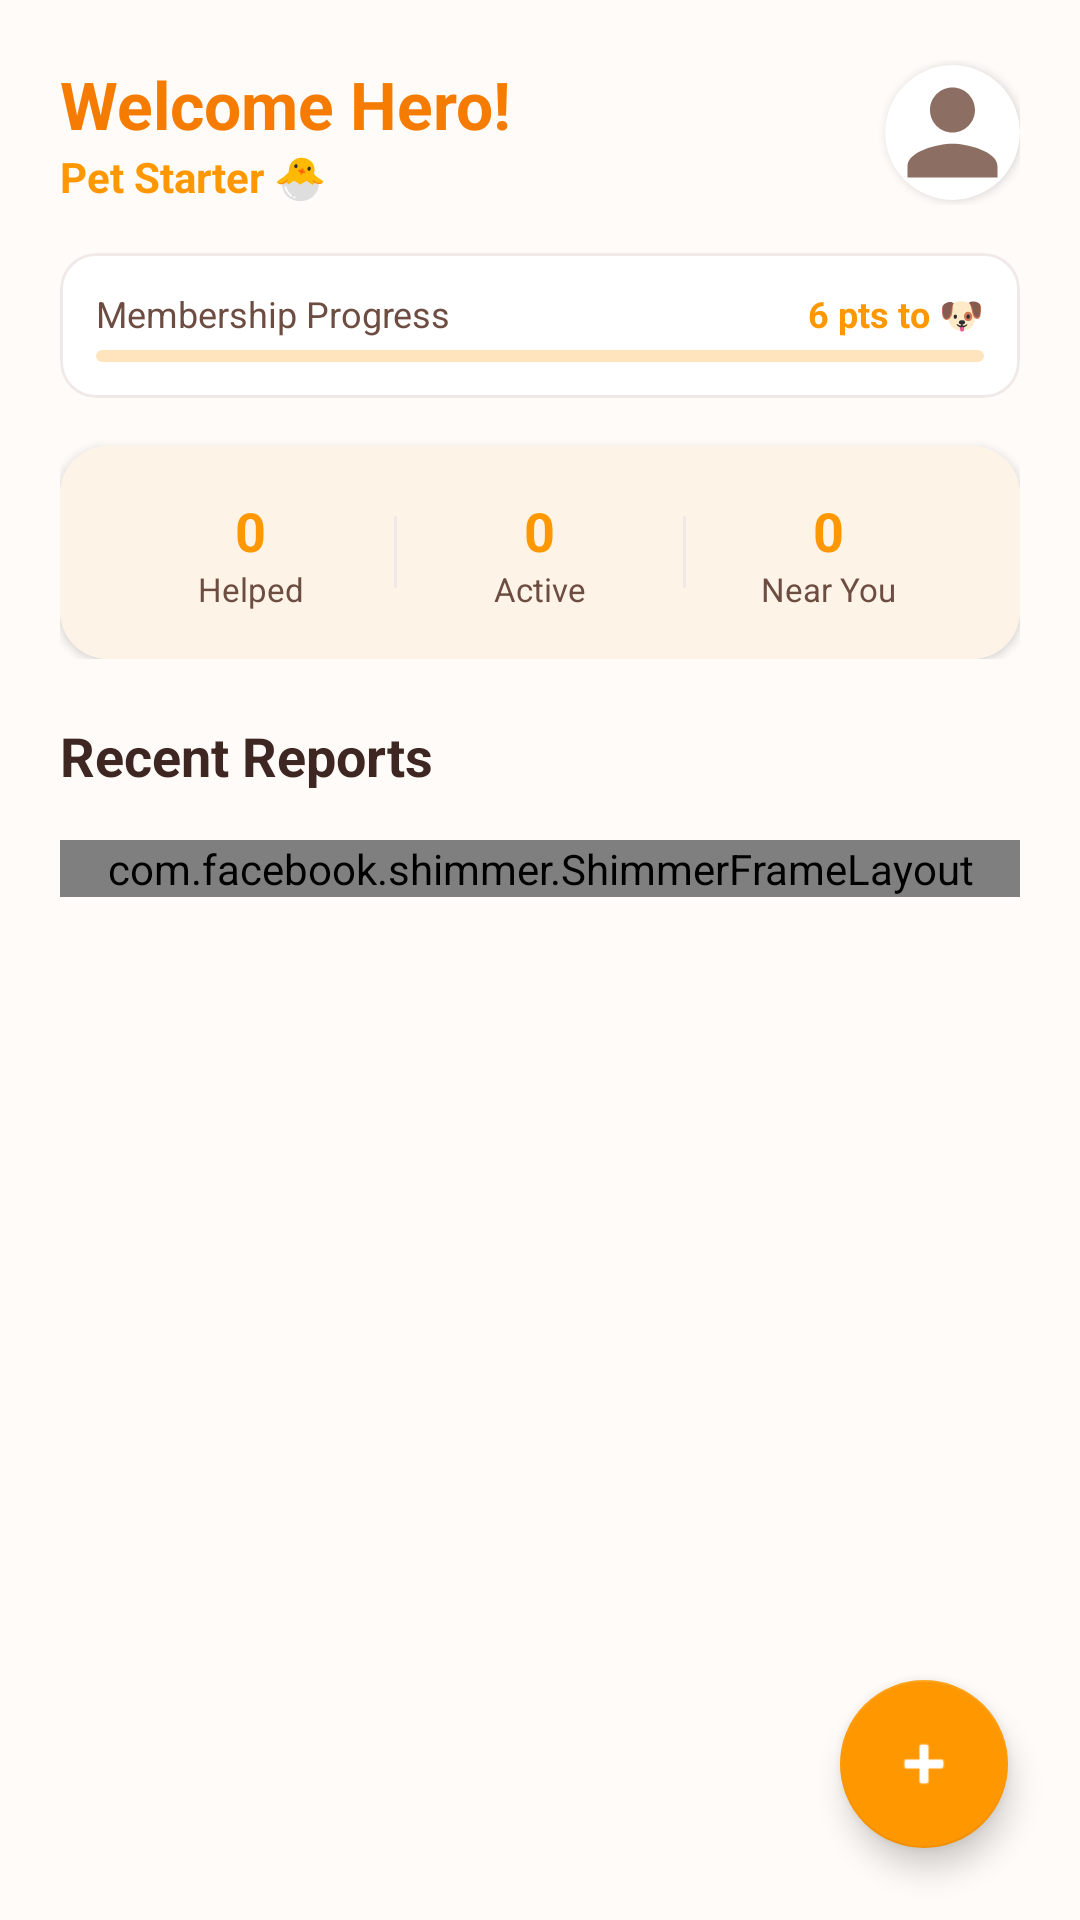

Icons on this 1080px×1920px Android screen, each with the point to tap as (x=x, y=y):
Create Alert: (x=924, y=1764)
user: (x=952, y=132)
